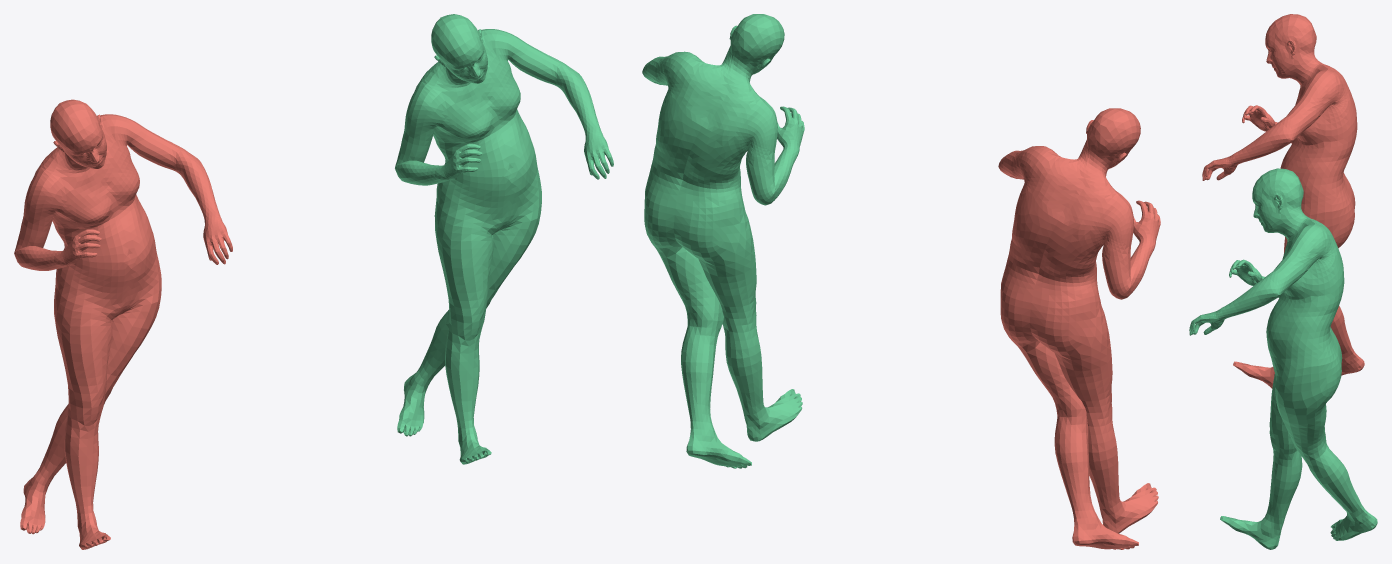
Rendered from pose_074_before_after.glb.
3 renders of one model, left to right at view 1: azimuth 30°, elevation 25°; view 2: azimuth 150°, elevation 25°; view 3: azimuth 270°, elevation 25°, orthographic. The views are drawn at different scales.
Visible parts, largest first — view 1: input_red, poseshield_green; view 2: poseshield_green, input_red; view 3: poseshield_green, input_red.
Part boxes in pixels (box(x1,y1,x2,y2)): input_red: box(14, 99, 232, 549); poseshield_green: box(395, 14, 613, 464); poseshield_green: box(642, 14, 804, 468); input_red: box(998, 108, 1160, 549); poseshield_green: box(1189, 168, 1377, 549); input_red: box(1202, 14, 1364, 388).
Size of what is drawn, in the model's own units: 2.06 by 1.63 by 0.7404.
